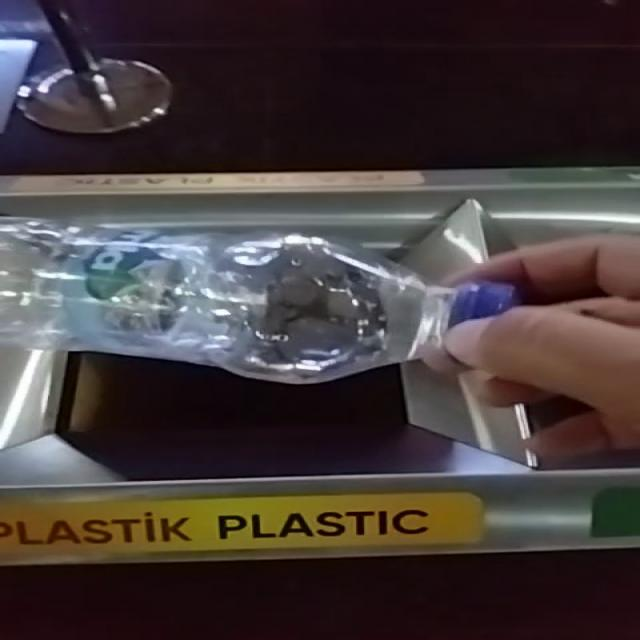plastic: (0, 218, 507, 384)
